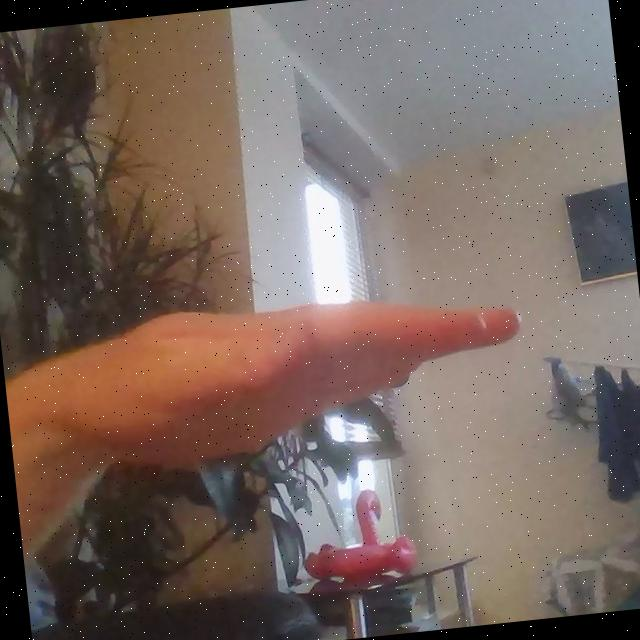papper: (102, 266, 540, 488)
